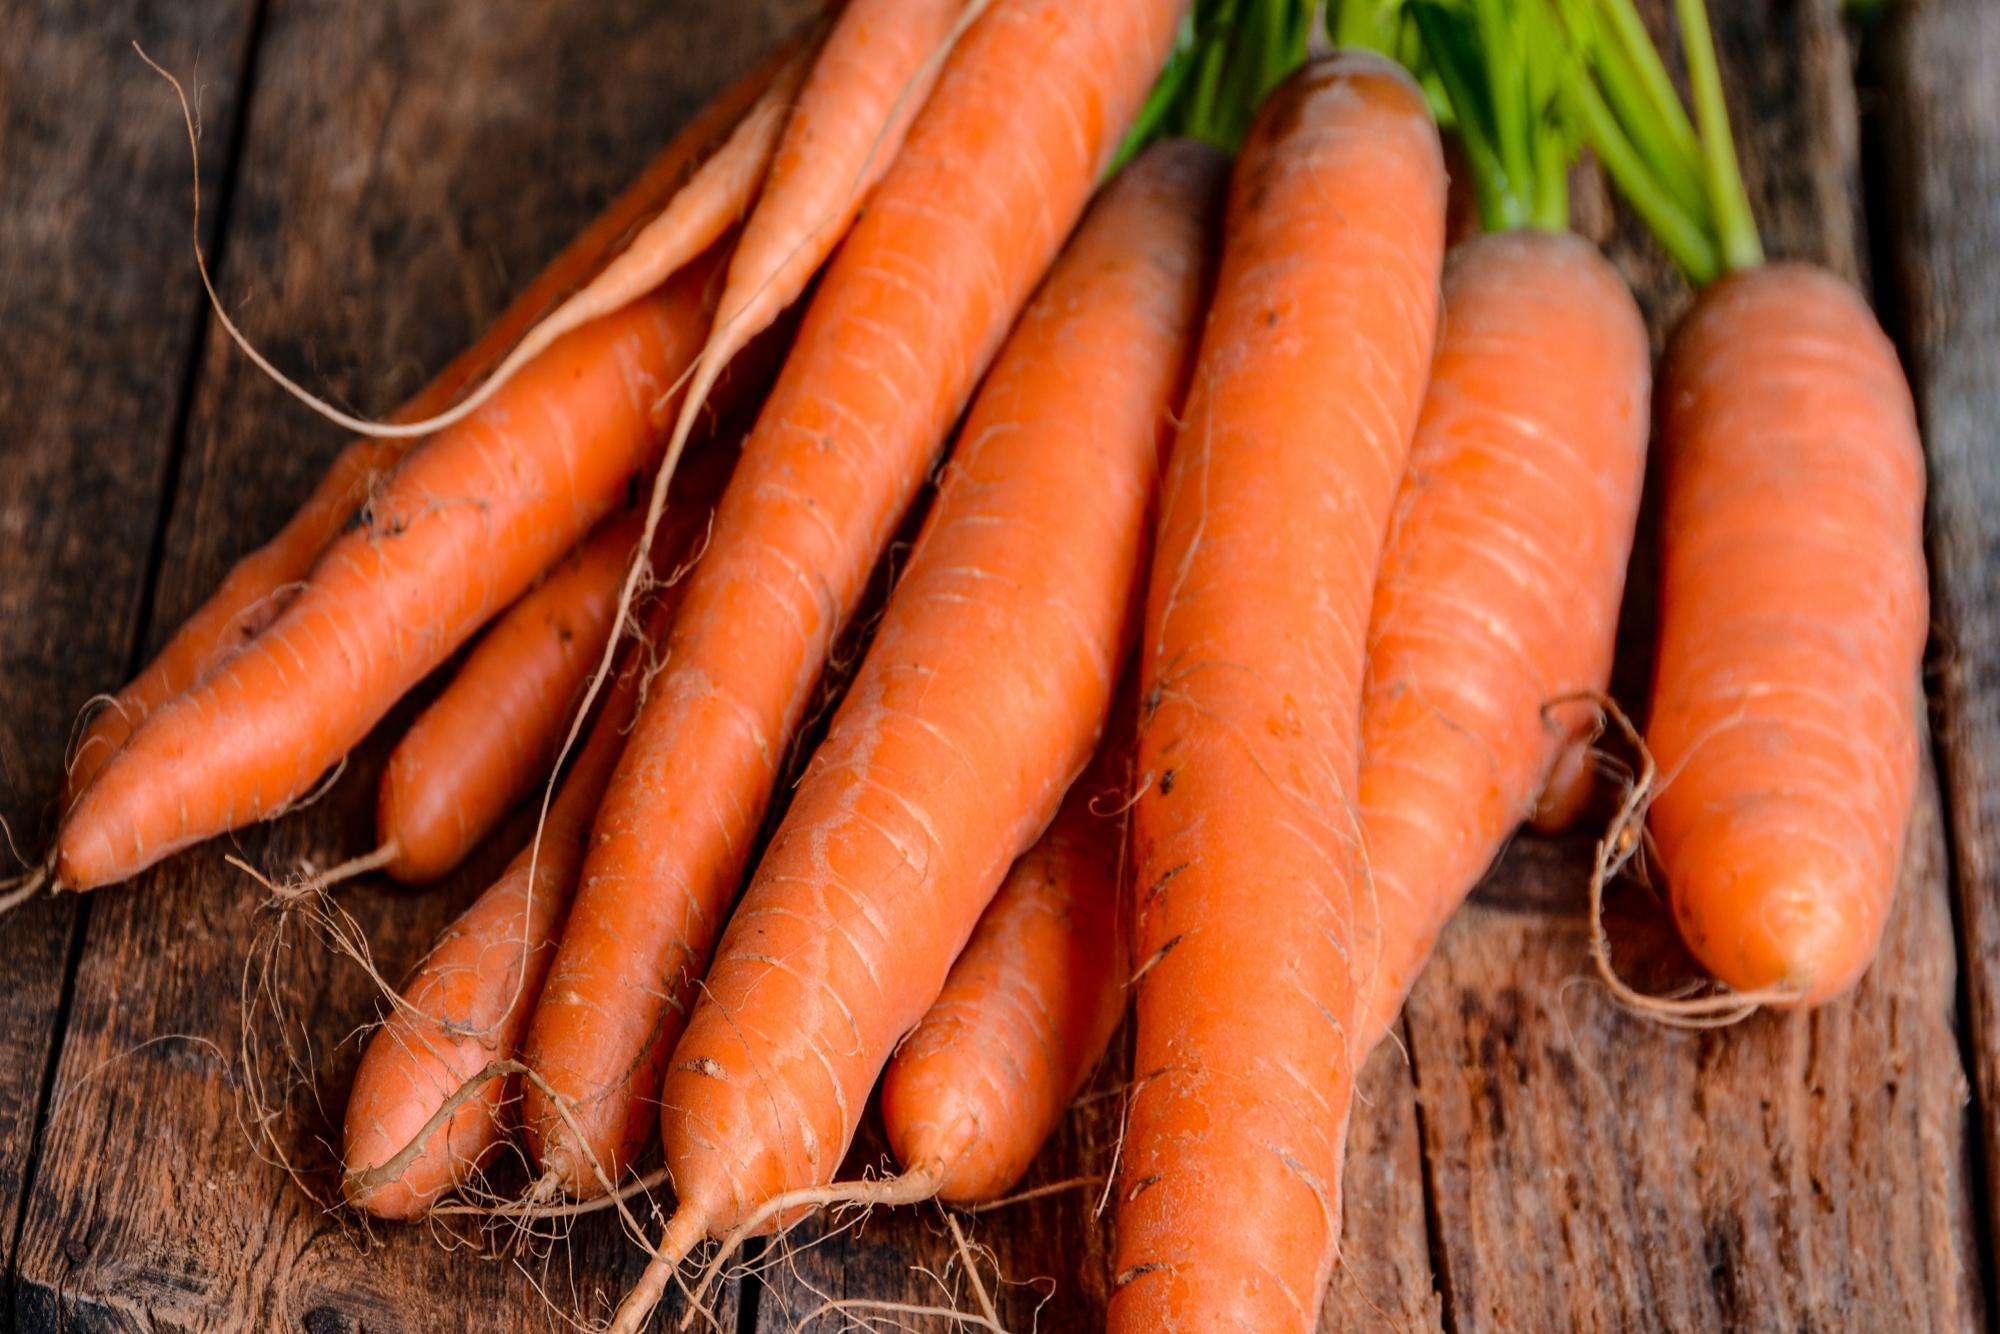carrot: (85, 31, 1948, 1304), (0, 0, 1074, 1312), (1089, 12, 1506, 1330), (1507, 216, 1972, 1026)
